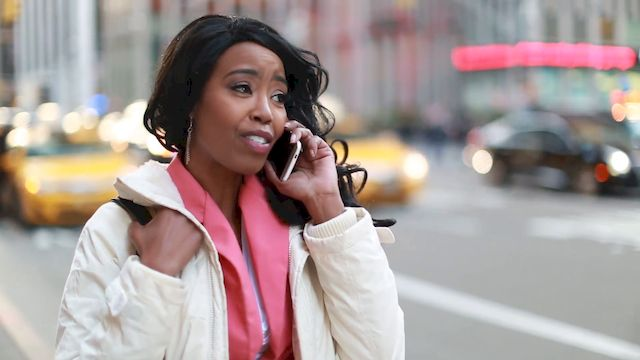phone: (273, 118, 308, 184)
talk: (214, 64, 341, 215)
